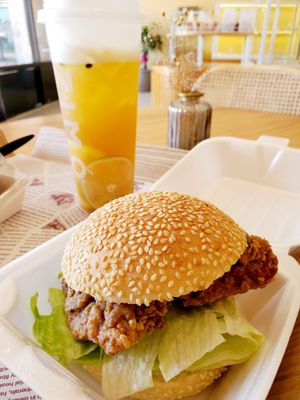pizza: (38, 4, 146, 214)
soup: (39, 190, 278, 400)
